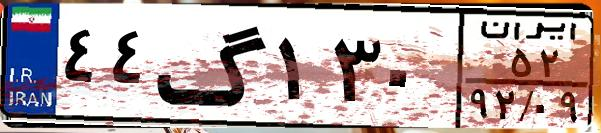0: (385, 28, 445, 110), (535, 70, 560, 125)
1: (270, 28, 330, 110)
2: (537, 27, 568, 80), (495, 70, 520, 125)
3: (330, 28, 385, 110)
4: (57, 26, 110, 100), (110, 28, 156, 98)
5: (508, 27, 537, 80)
9: (560, 70, 590, 125), (470, 70, 495, 125)
گ: (156, 12, 270, 120)
